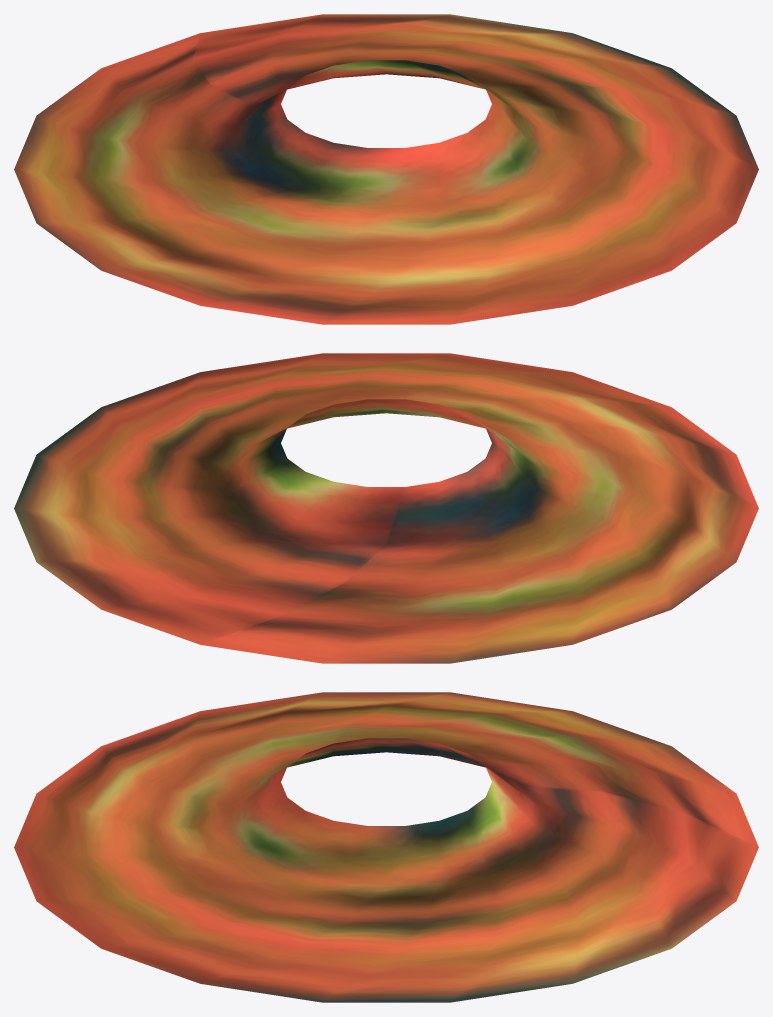
Rendered from fireplane.FBX.
3 views of the same model, one above another, from view 1: azimuth 30°, elevation 25°; view 2: azimuth 150°, elevation 25°; view 3: azimuth 270°, elevation 25° (orthographic).
Visible parts, largest first — view 1: 2_2; view 2: 2_2; view 3: 2_2.
Boxes of the visible parts, x1,y1,x2,y2 form: 2_2: (14, 14, 758, 324); 2_2: (14, 353, 758, 663); 2_2: (14, 692, 758, 1002).
Size of the model in its own units: 374 by 36.8 by 380.
